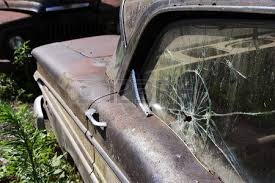Broken-glass: (147, 47, 253, 162)
